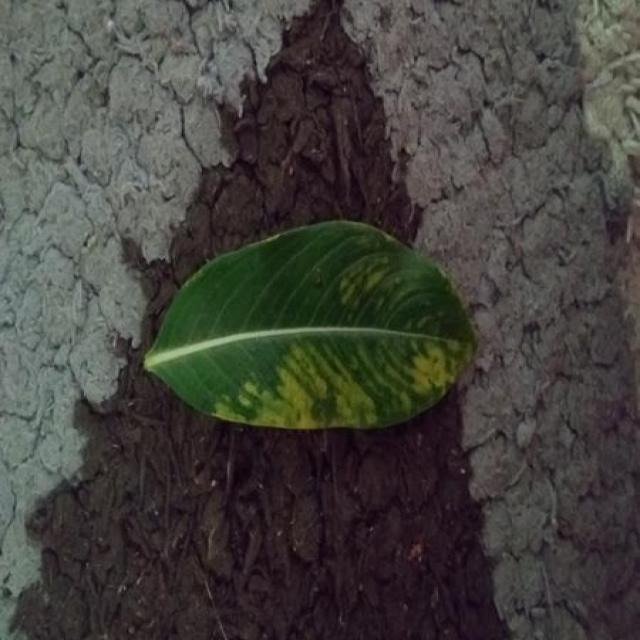catharanthus: (145, 221, 475, 429)
defectedcatharanthus: (148, 335, 462, 429)
